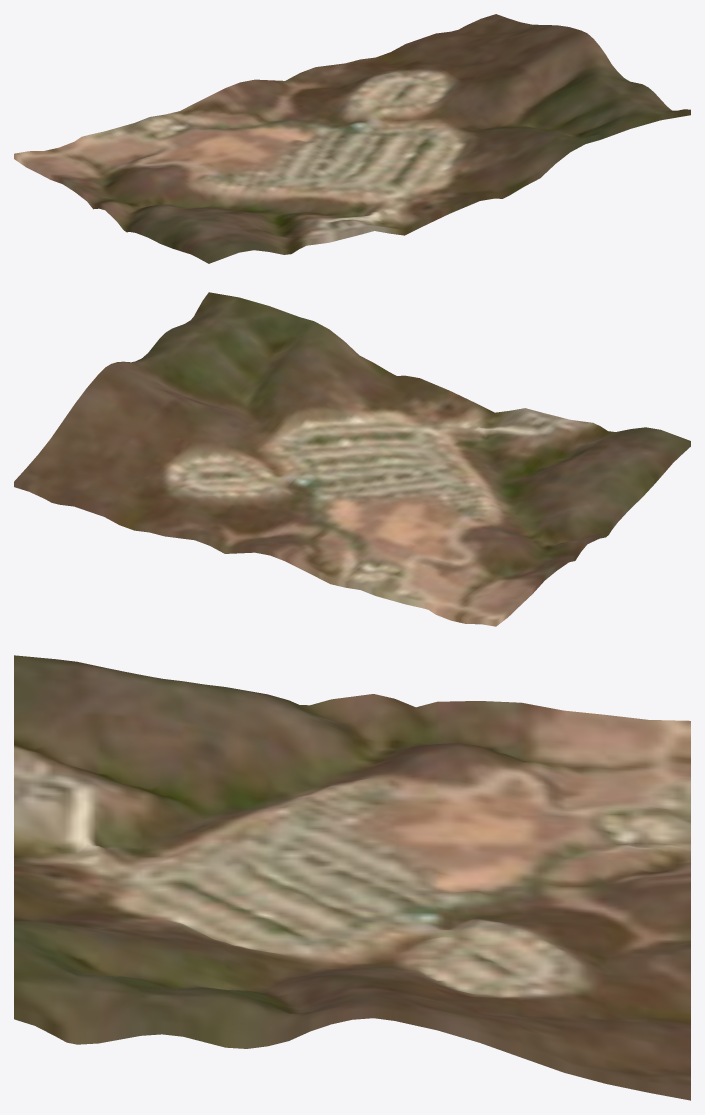
The model's file is terrain_r7_c5_lod2.glb.
3 views of the same model, one above another, from view 1: azimuth 30°, elevation 25°; view 2: azimuth 150°, elevation 25°; view 3: azimuth 270°, elevation 25° (orthographic). The views are drawn at different scales.
Parts seen in each view (by area): view 1: terrain_r7_c5_lod2; view 2: terrain_r7_c5_lod2; view 3: terrain_r7_c5_lod2.
Boxes of the visible parts, box(x1,y1,x2,y2) form: terrain_r7_c5_lod2: box(14, 14, 690, 263); terrain_r7_c5_lod2: box(14, 292, 690, 626); terrain_r7_c5_lod2: box(14, 655, 690, 1100).
Bounding box in the file's own units: 1125 × 181 × 787.
1 material, 1 textured.
